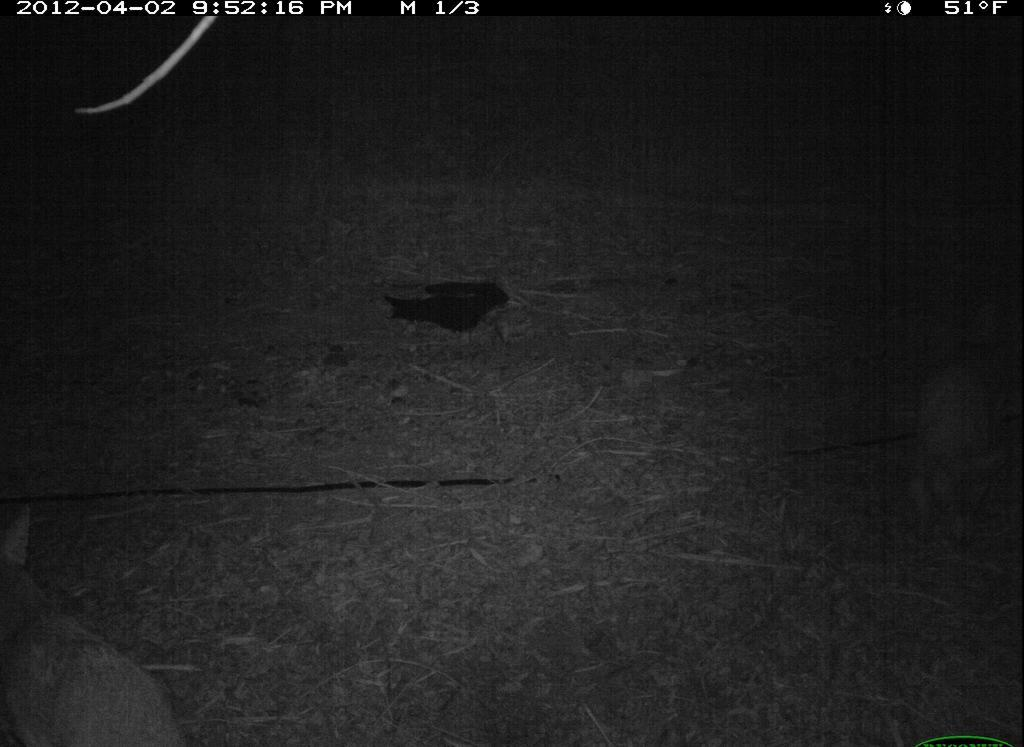coyote: (2, 493, 198, 747)
